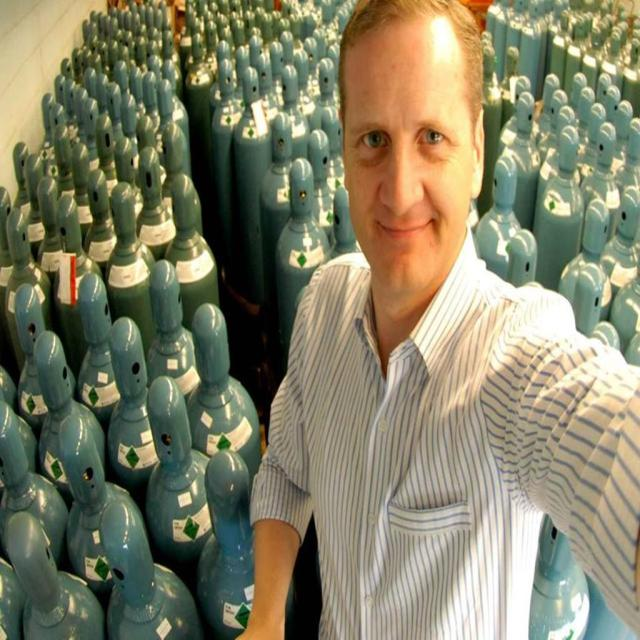Face: (346, 9, 494, 310)
